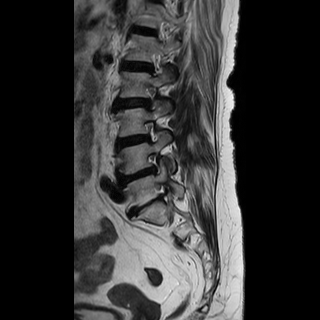LFS0: (139, 114, 160, 148), (142, 147, 164, 178)
